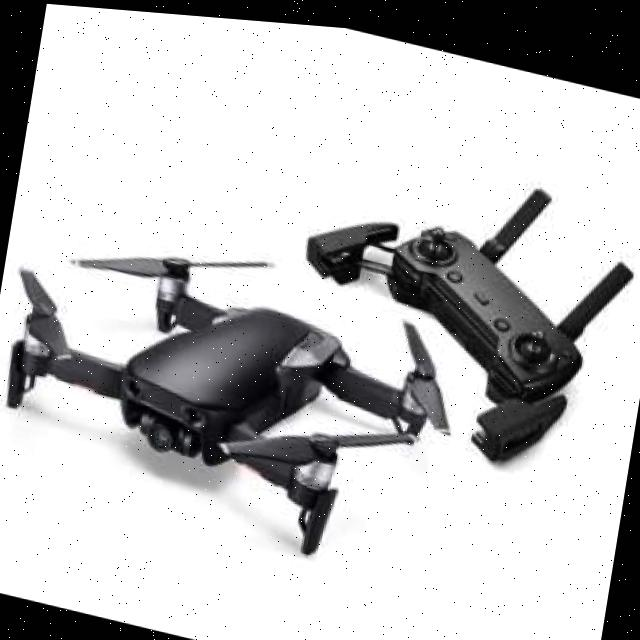drone: (0, 181, 481, 597)
